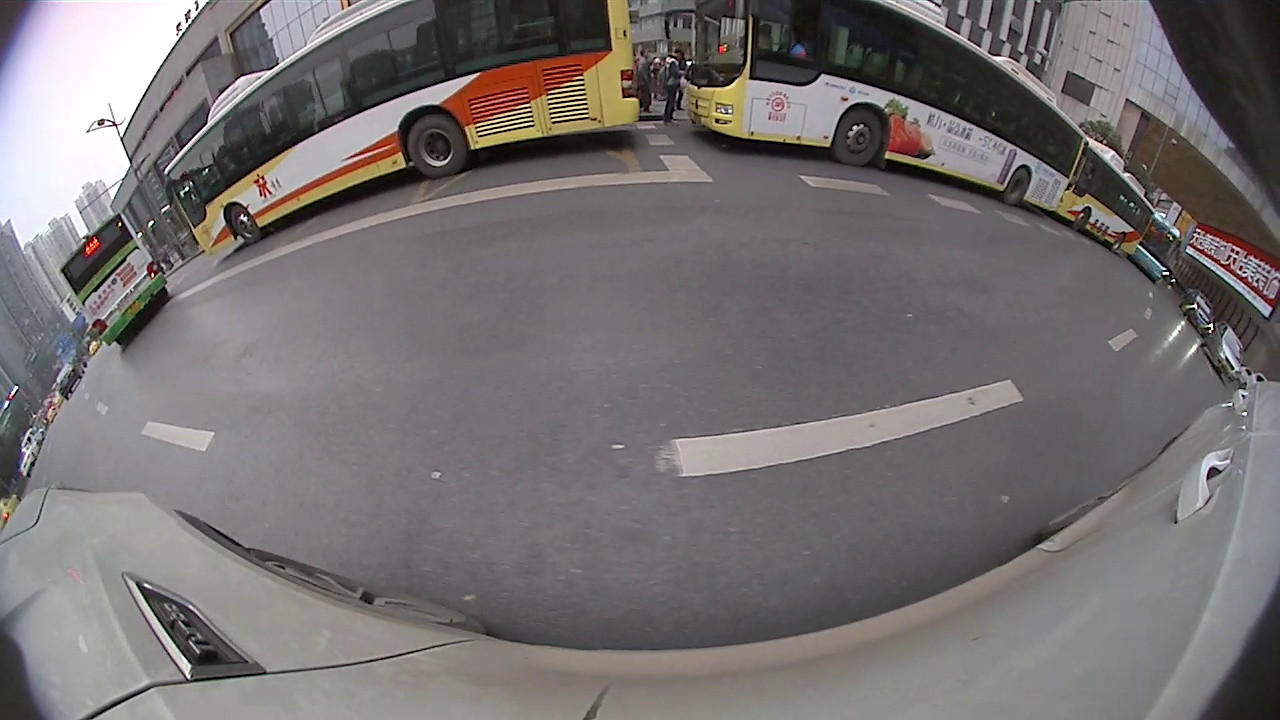car: (634, 37, 927, 210), (987, 198, 1153, 347), (63, 187, 214, 323), (1185, 370, 1240, 442)
front: (879, 171, 913, 210), (106, 280, 138, 315), (1111, 326, 1139, 350)
rear: (694, 128, 751, 184), (1066, 306, 1106, 340), (79, 293, 106, 325)
